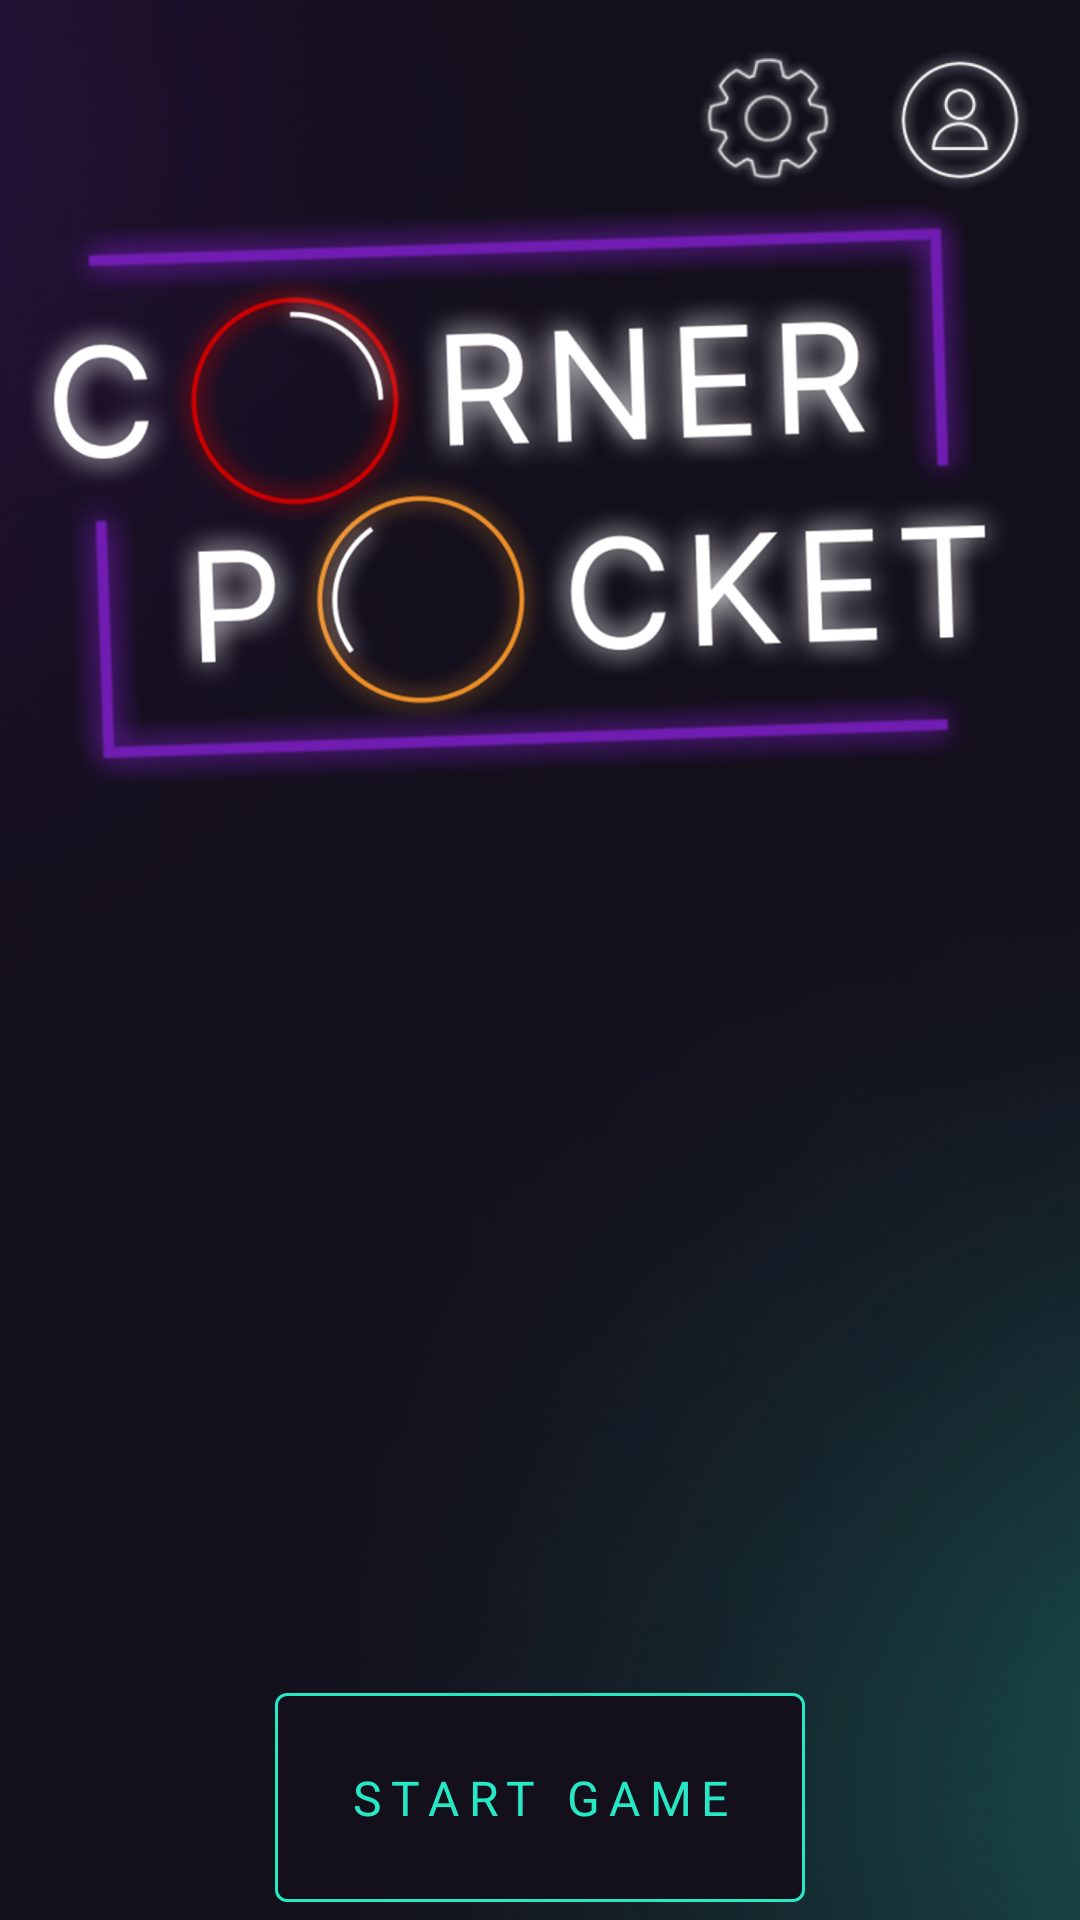

Screen size 1080px x 1920px. Icon name, then its center in pixels as (x,y):
Settings icon: (768,118)
